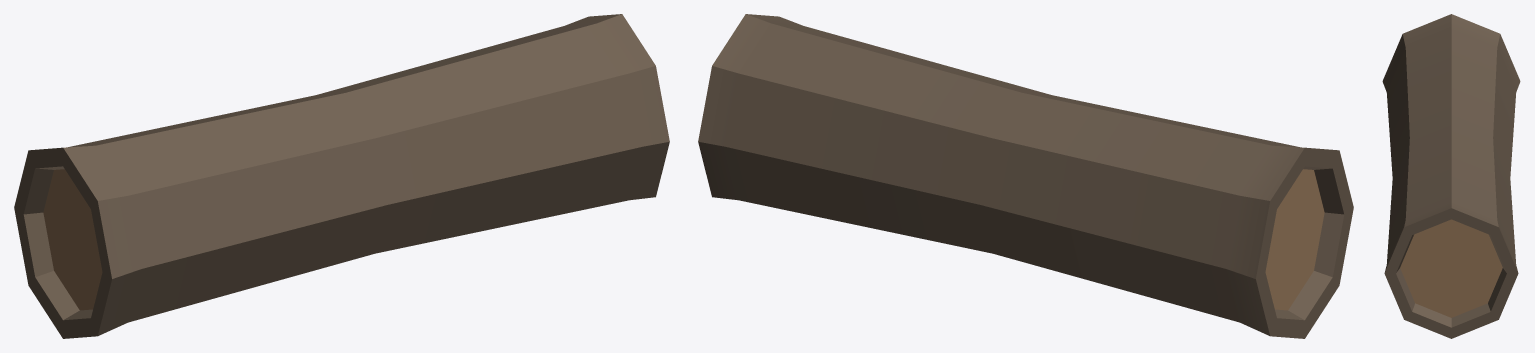
File: Geo_FireWood.fbx
The picture shows the model from 3 angles, left to right: view 1: azimuth 30°, elevation 25°; view 2: azimuth 150°, elevation 25°; view 3: azimuth 270°, elevation 25°; orthographic projection. The views are drawn at different scales.
Parts seen in each view (by area): view 1: Firewood01; view 2: Firewood01; view 3: Firewood01.
Part boxes in pixels (x1,y1,x2,y2): Firewood01: (14,14,669,338); Firewood01: (698,14,1353,338); Firewood01: (1382,14,1520,338).
Size of the model in its own units: 36.98 by 12.09 by 11.23.
